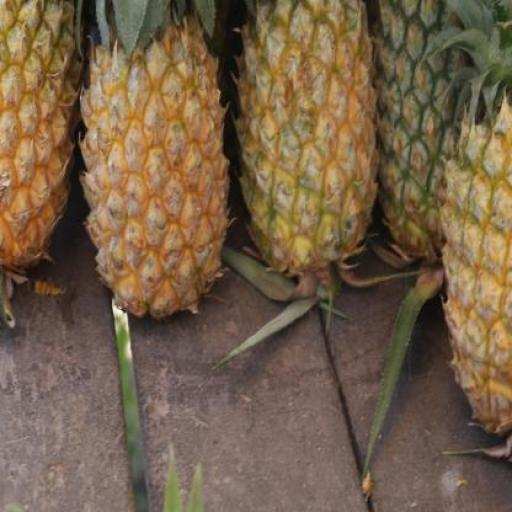------------------------------: (238, 1, 379, 248)
Pineapple - v8 v1: (83, 21, 233, 320), (0, 0, 87, 262)
